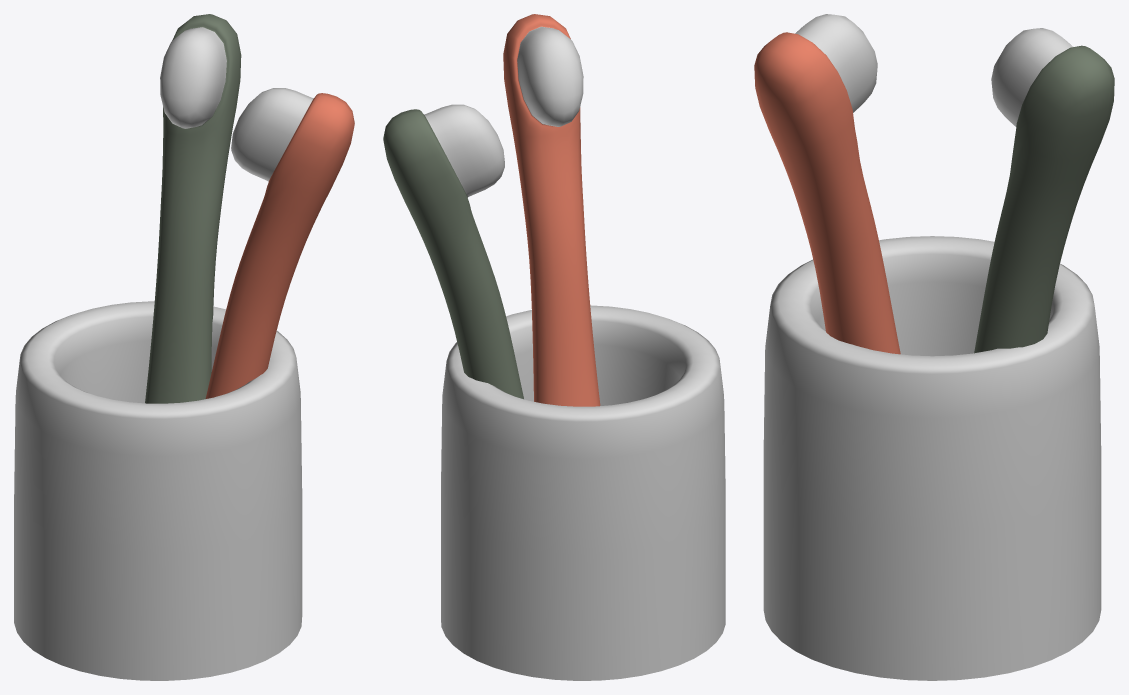
Rendered from toothbursh_pot01.fbx.
The picture shows the model from 3 angles, left to right: view 1: azimuth 30°, elevation 25°; view 2: azimuth 150°, elevation 25°; view 3: azimuth 270°, elevation 25°; orthographic projection. The views are drawn at different scales.
Visible parts, largest first — view 1: toothbursh_pot01; view 2: toothbursh_pot01; view 3: toothbursh_pot01.
Boxes of the visible parts, x1=… form: toothbursh_pot01: x1=14, y1=14, x2=354, y2=680; toothbursh_pot01: x1=383, y1=14, x2=725, y2=680; toothbursh_pot01: x1=754, y1=14, x2=1114, y2=680.
Bounding box in the file's own units: 34.45 × 68.12 × 34.94.
